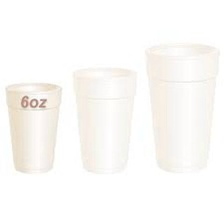paper_cup: (140, 38, 223, 177), (66, 62, 143, 178), (2, 78, 64, 178)
